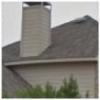chimneys: (19, 1, 50, 57)
